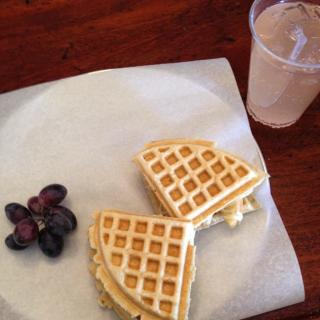Waffle: (132, 138, 270, 228), (87, 207, 196, 320)
